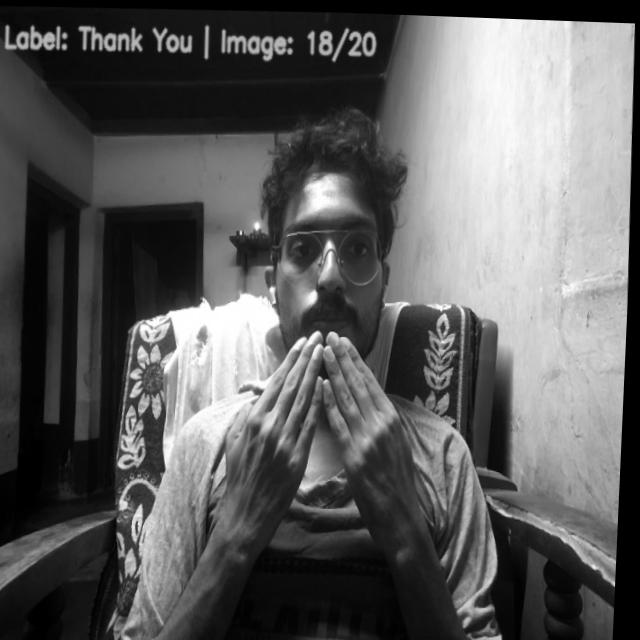Thank You: (218, 321, 442, 537)
